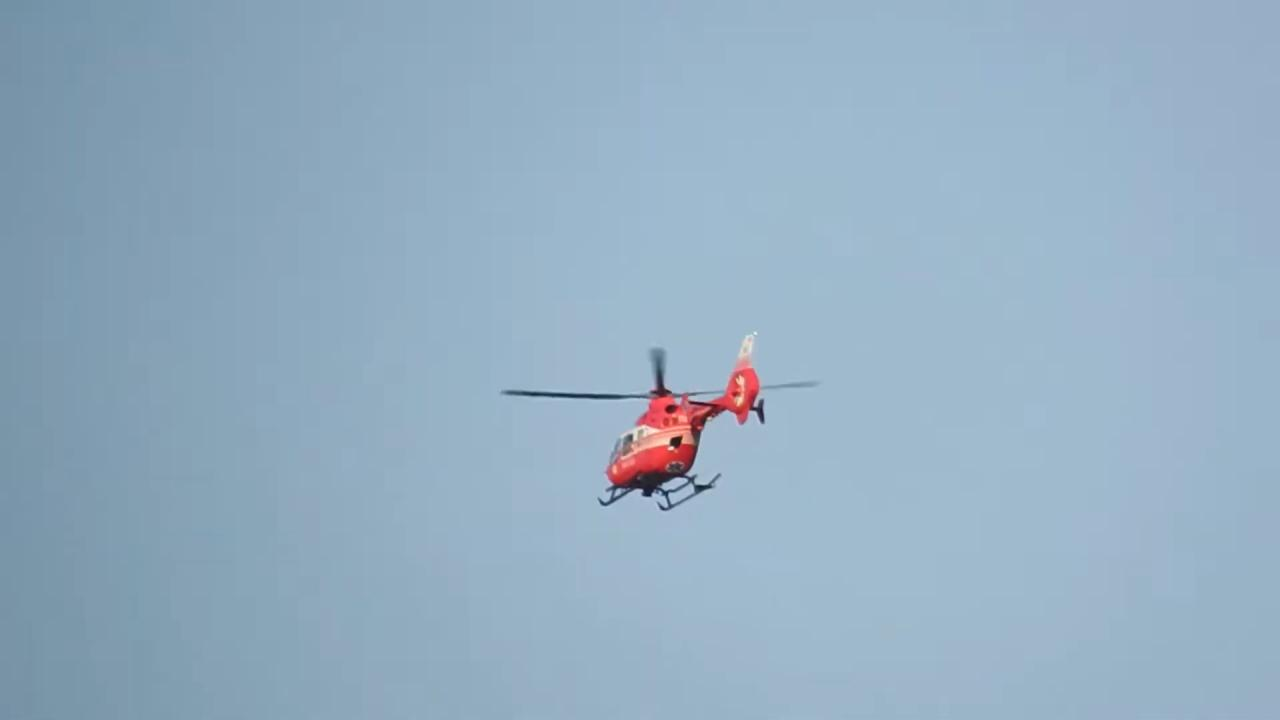Helicopter: (490, 321, 797, 523)
